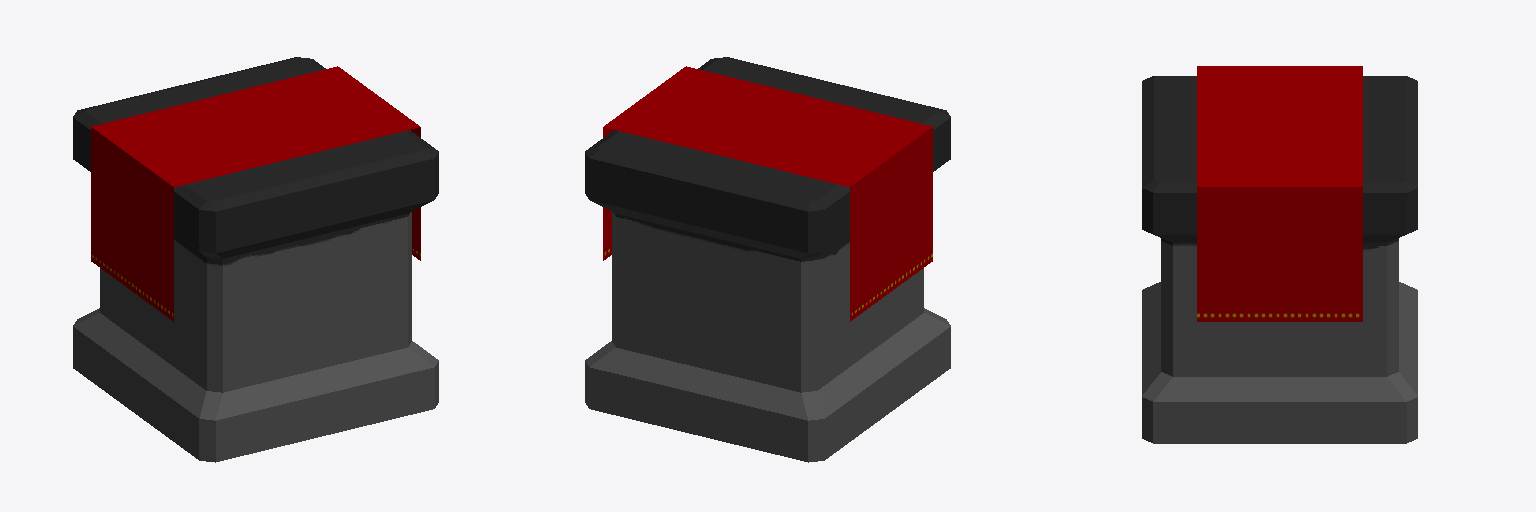
3 views of the same model, side by side, from view 1: azimuth 30°, elevation 25°; view 2: azimuth 150°, elevation 25°; view 3: azimuth 270°, elevation 25° (orthographic).
Parts seen in each view (by area): view 1: pedestal.001_Cube.004; view 2: pedestal.001_Cube.004; view 3: pedestal.001_Cube.004.
Boxes of the visible parts, x1,y1,x2,y2 form: pedestal.001_Cube.004: [73, 57, 438, 462]; pedestal.001_Cube.004: [585, 57, 950, 462]; pedestal.001_Cube.004: [1142, 66, 1417, 443].
Bounding box in the file's own units: 0.5159 × 0.515 × 0.5.
1 materials, 1 textured.